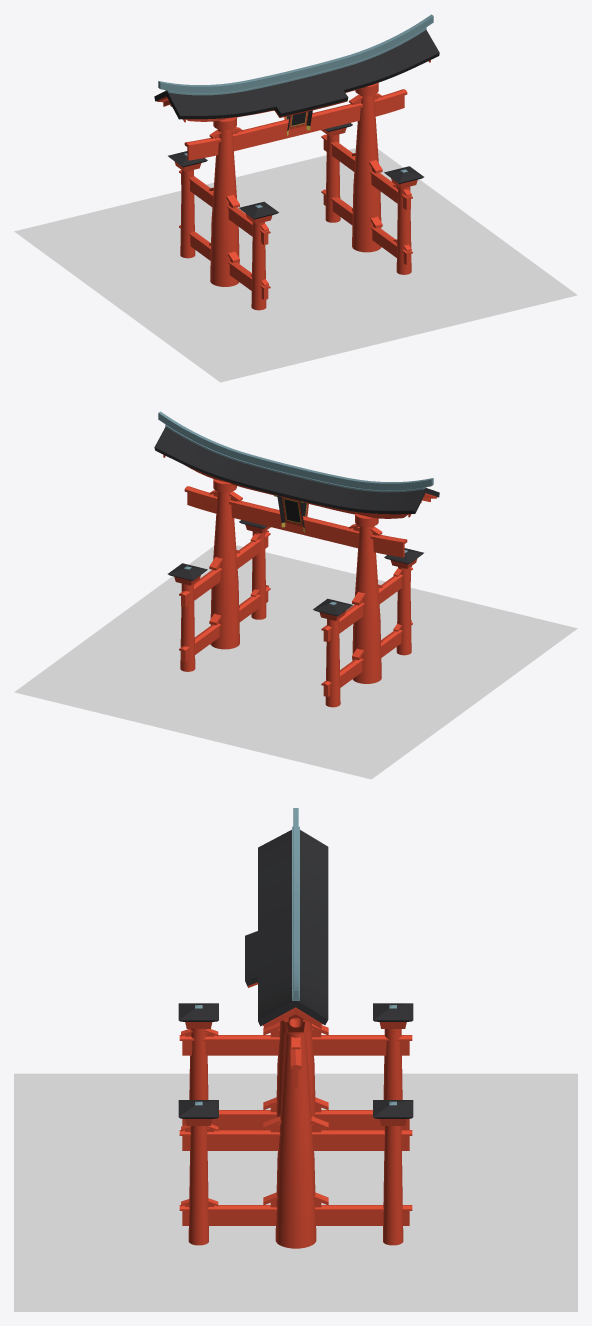
The model's file is Miyajima_Temple.fbx.
The picture shows the model from 3 angles, top to bottom: view 1: azimuth 30°, elevation 25°; view 2: azimuth 150°, elevation 25°; view 3: azimuth 270°, elevation 25°; orthographic projection. The views are drawn at different scales.
Visible parts, largest first — view 1: TEXEL SIZE, Cube.004, Cylinder, Cylinder.001, Cube.001, Cube, Cube.002, Cube.010, Cube.008; view 2: TEXEL SIZE, Cube.004, Cylinder, Cylinder.001, Cube.001, Cube, Cube.002, Cube.006, Cube.010, Cube.008, Cube.003; view 3: TEXEL SIZE, Cube.004, Cube.001, Cylinder, Cylinder.001, Cube.002, Cube.008, Cube.010.
Boxes of the visible parts, x1,y1,x2,y2 form: TEXEL SIZE: (14,148,577,382); Cube.004: (154,14,439,119); Cylinder: (210,82,381,286); Cylinder.001: (180,134,411,310); Cube.001: (179,134,412,299); Cube: (184,89,407,160); Cube.002: (168,123,423,219); Cube.010: (174,127,417,223); Cube.008: (209,153,382,262); TEXEL SIZE: (14,545,577,779); Cube.004: (154,411,439,514); Cylinder: (210,479,381,683); Cylinder.001: (180,531,411,707); Cube.001: (179,532,412,696); Cube: (184,486,407,557); Cube.002: (168,520,423,616); Cube.006: (274,495,308,532); Cube.010: (174,524,417,620); Cube.008: (209,550,382,659); Cube.003: (185,465,421,518); TEXEL SIZE: (14,1073,577,1311); Cube.004: (245,808,328,1026); Cube.001: (179,1035,412,1225); Cylinder: (275,1020,316,1248); Cylinder.001: (188,1029,403,1245); Cube.002: (178,1003,413,1118); Cube.008: (263,1022,328,1207); Cube.010: (185,1022,406,1125).
Size of the model in its own units: 4000 by 2318 by 4000.
